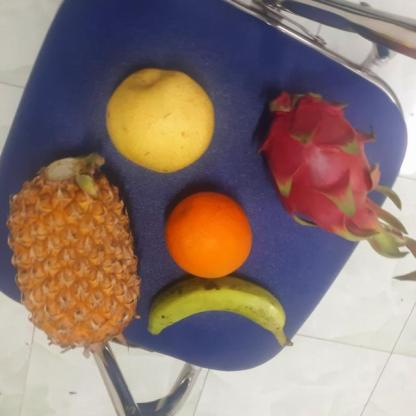banana: (138, 277, 283, 339)
guava: (100, 68, 212, 171)
orange: (160, 187, 254, 281)
pineapple: (9, 160, 137, 352)
pitaya: (247, 87, 386, 233)
